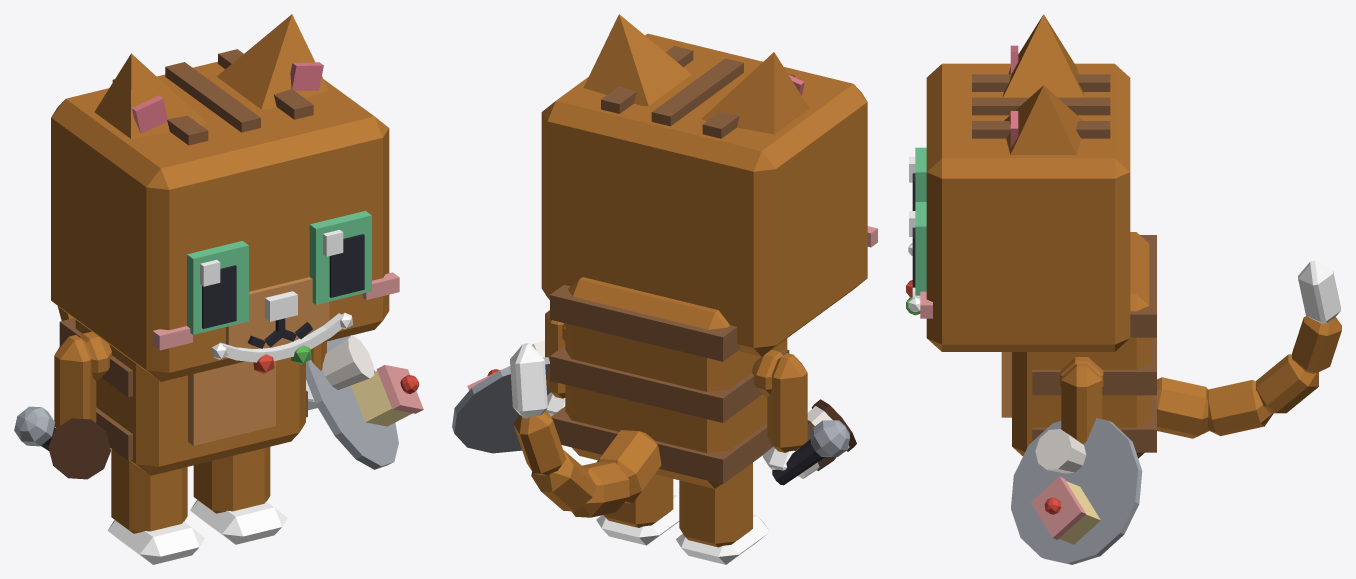
Rendered from CatCafe_Cat_Gingerbread_Work.glb.
The picture shows the model from 3 angles, left to right: view 1: azimuth 30°, elevation 25°; view 2: azimuth 150°, elevation 25°; view 3: azimuth 270°, elevation 25°; orthographic projection. The views are drawn at different scales.
Visible parts, largest first — view 1: CatCafe_Cat_Gingerbread_Work_Head, CatCafe_Cat_Gingerbread_Work_Body, CatCafe_Cat_Gingerbread_Work_Held_Waiter, CatCafe_Cat_Gingerbread_Work_LegB2, CatCafe_Cat_Gingerbread_Work_LegB1, CatCafe_Cat_Gingerbread_Work_EarL, CatCafe_Cat_Gingerbread_Work_Eye1, CatCafe_Cat_Gingerbread_Work_Eye2, CatCafe_Cat_Gingerbread_Work_EarR, CatCafe_Cat_Gingerbread_Work_LegF2, CatCafe_Cat_Gingerbread_Work_Held_Barista, CatCafe_Cat_Gingerbread_Work_Prop (+1 smaller); view 2: CatCafe_Cat_Gingerbread_Work_Head, CatCafe_Cat_Gingerbread_Work_Body, CatCafe_Cat_Gingerbread_Work_Tail, CatCafe_Cat_Gingerbread_Work_LegB2, CatCafe_Cat_Gingerbread_Work_EarL, CatCafe_Cat_Gingerbread_Work_Held_Waiter, CatCafe_Cat_Gingerbread_Work_EarR, CatCafe_Cat_Gingerbread_Work_LegF2, CatCafe_Cat_Gingerbread_Work_LegB1, CatCafe_Cat_Gingerbread_Work_Held_Entertainer, CatCafe_Cat_Gingerbread_Work_LegF1, CatCafe_Cat_Gingerbread_Work_Held_Barista; view 3: CatCafe_Cat_Gingerbread_Work_Head, CatCafe_Cat_Gingerbread_Work_Held_Waiter, CatCafe_Cat_Gingerbread_Work_Body, CatCafe_Cat_Gingerbread_Work_Tail, CatCafe_Cat_Gingerbread_Work_EarR, CatCafe_Cat_Gingerbread_Work_EarL, CatCafe_Cat_Gingerbread_Work_LegF1, CatCafe_Cat_Gingerbread_Work_Eye1, CatCafe_Cat_Gingerbread_Work_Eye2.
Part boxes in pixels (box(x1,y1,x2,y2)): CatCafe_Cat_Gingerbread_Work_Head: box(51, 49, 399, 381); CatCafe_Cat_Gingerbread_Work_Body: box(59, 318, 307, 475); CatCafe_Cat_Gingerbread_Work_Held_Waiter: box(306, 335, 423, 469); CatCafe_Cat_Gingerbread_Work_LegB2: box(107, 449, 205, 564); CatCafe_Cat_Gingerbread_Work_LegB1: box(190, 447, 287, 544); CatCafe_Cat_Gingerbread_Work_EarL: box(216, 14, 328, 109); CatCafe_Cat_Gingerbread_Work_Eye1: box(309, 211, 371, 304); CatCafe_Cat_Gingerbread_Work_Eye2: box(187, 241, 248, 334); CatCafe_Cat_Gingerbread_Work_EarR: box(94, 53, 206, 138); CatCafe_Cat_Gingerbread_Work_LegF2: box(54, 335, 96, 427); CatCafe_Cat_Gingerbread_Work_Held_Barista: box(48, 418, 110, 479); CatCafe_Cat_Gingerbread_Work_Prop: box(211, 313, 352, 373); CatCafe_Cat_Gingerbread_Work_Head: box(541, 33, 877, 356); CatCafe_Cat_Gingerbread_Work_Body: box(550, 277, 789, 488); CatCafe_Cat_Gingerbread_Work_Tail: box(510, 343, 661, 517); CatCafe_Cat_Gingerbread_Work_LegB2: box(676, 462, 769, 564); CatCafe_Cat_Gingerbread_Work_EarL: box(583, 14, 691, 105); CatCafe_Cat_Gingerbread_Work_Held_Waiter: box(452, 340, 550, 453); CatCafe_Cat_Gingerbread_Work_EarR: box(701, 52, 809, 134); CatCafe_Cat_Gingerbread_Work_LegF2: box(763, 353, 807, 470); CatCafe_Cat_Gingerbread_Work_LegB1: box(596, 474, 679, 545); CatCafe_Cat_Gingerbread_Work_Held_Entertainer: box(772, 420, 849, 485); CatCafe_Cat_Gingerbread_Work_LegF1: box(545, 310, 565, 416); CatCafe_Cat_Gingerbread_Work_Held_Barista: box(797, 399, 856, 478); CatCafe_Cat_Gingerbread_Work_Head: box(920, 63, 1130, 351); CatCafe_Cat_Gingerbread_Work_Held_Waiter: box(1011, 418, 1142, 564); CatCafe_Cat_Gingerbread_Work_Body: box(1001, 232, 1156, 458); CatCafe_Cat_Gingerbread_Work_Tail: box(1151, 260, 1341, 438); CatCafe_Cat_Gingerbread_Work_EarR: box(1003, 14, 1084, 97); CatCafe_Cat_Gingerbread_Work_EarL: box(1004, 85, 1082, 154); CatCafe_Cat_Gingerbread_Work_LegF1: box(1061, 363, 1102, 443); CatCafe_Cat_Gingerbread_Work_Eye1: box(909, 202, 926, 295); CatCafe_Cat_Gingerbread_Work_Eye2: box(909, 147, 926, 210).
Bounding box in the file's own units: 1.53 × 1.93 × 1.63.
Materials: 1 (1 with a texture image).
